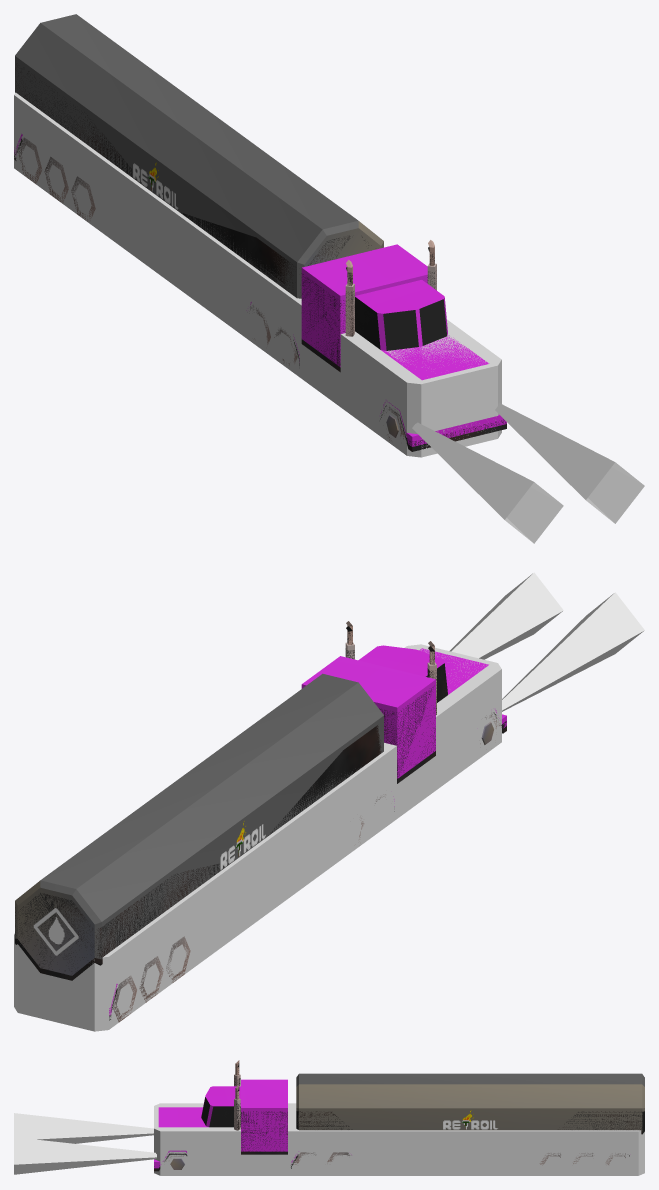
File: truck3.fbx
3 renders of one model, top to bottom at view 1: azimuth 30°, elevation 25°; view 2: azimuth 150°, elevation 25°; view 3: azimuth 270°, elevation 25°, orthographic. The views are drawn at different scales.
Parts seen in each view (by area): view 1: truck3, truck3_cldr, truck3_dead; view 2: truck3, truck3_cldr, truck3_dead; view 3: truck3, truck3_cldr, truck3_dead.
Part boxes in pixels (<box>): truck3: <box>14,14,644,543</box>; truck3_cldr: <box>14,92,501,457</box>; truck3_dead: <box>14,63,506,451</box>; truck3: <box>15,572,644,1022</box>; truck3_cldr: <box>14,644,501,1031</box>; truck3_dead: <box>15,626,506,1020</box>; truck3: <box>14,1060,644,1174</box>; truck3_cldr: <box>154,1103,644,1175</box>; truck3_dead: <box>154,1064,644,1171</box>.
Bounding box in the file's own units: 6.21 × 6.29 × 39.74.
